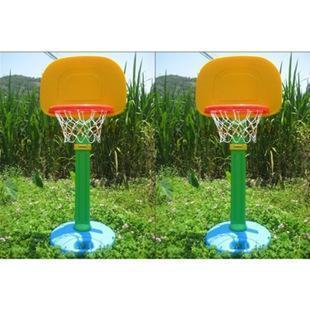rim: (52, 105, 111, 145), (209, 105, 266, 144)
